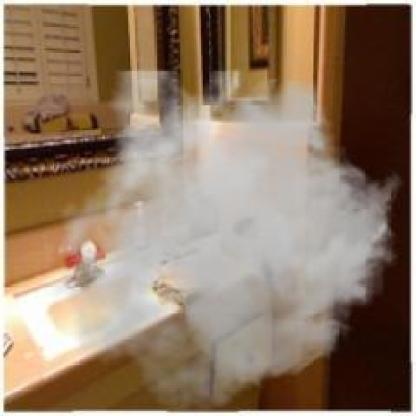Smoke: (48, 71, 404, 414)
